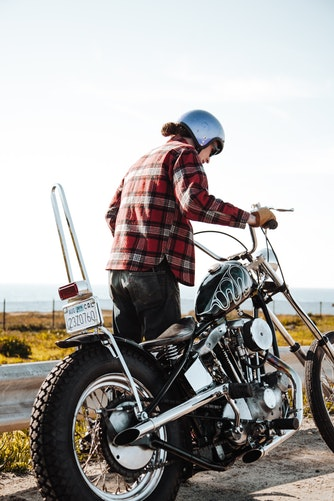helmet: (176, 97, 234, 155)
